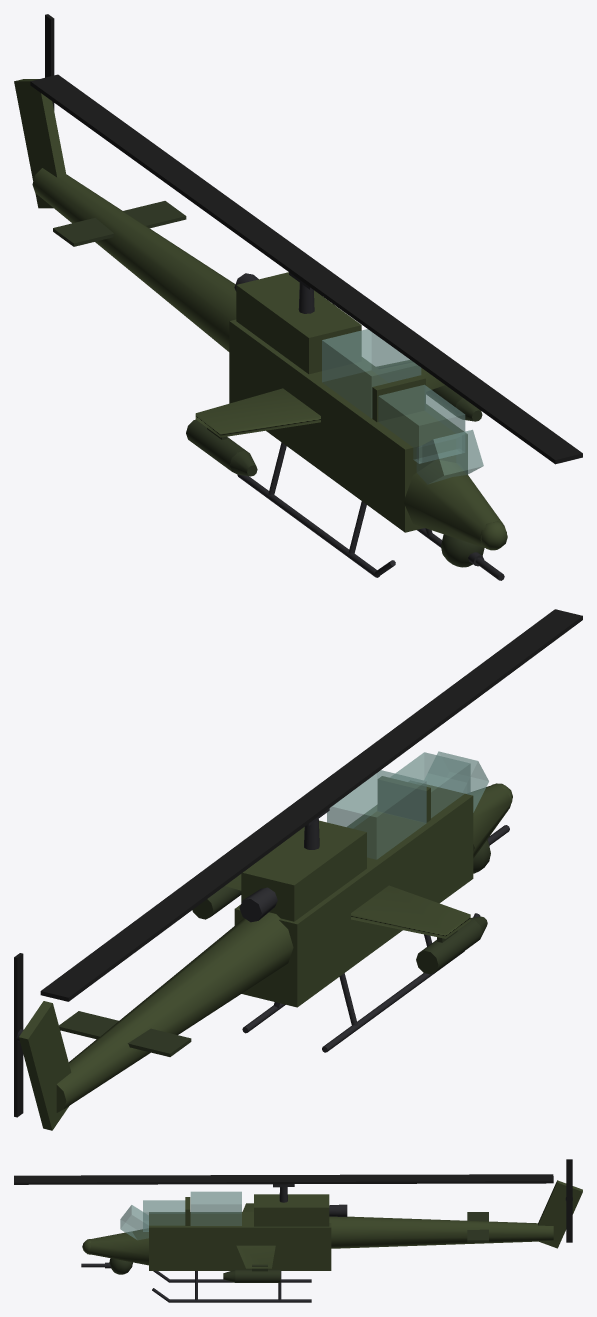
File: ah1-cobra.glb
3 renders of one model, top to bottom at view 1: azimuth 30°, elevation 25°; view 2: azimuth 150°, elevation 25°; view 3: azimuth 270°, elevation 25°, orthographic. The views are drawn at different scales.
Parts seen in each view (by area): view 1: Mesh_Hull, Mesh_MainRotorBlades, Mesh_TailBoom, Mesh_EngineFairing, Mesh_Nose, Mesh_CanopyPilot, Mesh_CanopyGunner, Mesh_StubWingRight, Mesh_TailFin, Mesh_Windshield, Mesh_Stabilizer, Mesh_CanopyFrame (+4 smaller); view 2: Mesh_Hull, Mesh_MainRotorBlades, Mesh_TailBoom, Mesh_EngineFairing, Mesh_CanopyPilot, Mesh_TailFin, Mesh_StubWingRight, Mesh_CanopyGunner, Mesh_Stabilizer, Mesh_Windshield, Mesh_CanopyFrame, Mesh_Nose (+5 smaller); view 3: Mesh_Hull, Mesh_TailBoom, Mesh_MainRotorBlades, Mesh_EngineFairing, Mesh_CanopyPilot, Mesh_Nose, Mesh_TailFin, Mesh_CanopyGunner, Mesh_StubWingLeft, Mesh_Windshield, Mesh_RocketPodL, Mesh_TailRotorBlades (+5 smaller).
Boxes of the visible parts, x1=… form: Mesh_Hull: x1=229, y1=319, x2=467, y2=532; Mesh_MainRotorBlades: x1=30, y1=74, x2=582, y2=464; Mesh_TailBoom: x1=32, y1=168, x2=236, y2=351; Mesh_EngineFairing: x1=236, y1=272, x2=361, y2=374; Mesh_Nose: x1=403, y1=459, x2=506, y2=547; Mesh_CanopyPilot: x1=322, y1=329, x2=421, y2=418; Mesh_CanopyGunner: x1=378, y1=385, x2=465, y2=463; Mesh_StubWingRight: x1=195, y1=388, x2=320, y2=437; Mesh_TailFin: x1=14, y1=79, x2=66, y2=208; Mesh_Windshield: x1=416, y1=429, x2=483, y2=484; Mesh_Stabilizer: x1=53, y1=201, x2=186, y2=246; Mesh_CanopyFrame: x1=372, y1=375, x2=425, y2=421; Mesh_Hull: x1=234, y1=783, x2=473, y2=1007; Mesh_MainRotorBlades: x1=40, y1=609, x2=582, y2=1001; Mesh_TailBoom: x1=56, y1=912, x2=293, y2=1112; Mesh_EngineFairing: x1=241, y1=820, x2=366, y2=921; Mesh_CanopyPilot: x1=327, y1=770, x2=426, y2=859; Mesh_TailFin: x1=19, y1=1001, x2=71, y2=1130; Mesh_StubWingRight: x1=351, y1=885, x2=470, y2=938; Mesh_CanopyGunner: x1=390, y1=752, x2=470, y2=817; Mesh_Stabilizer: x1=59, y1=1011, x2=191, y2=1056; Mesh_Windshield: x1=424, y1=751, x2=488, y2=812; Mesh_CanopyFrame: x1=378, y1=776, x2=430, y2=822; Mesh_Nose: x1=470, y1=784, x2=512, y2=858; Mesh_Hull: x1=149, y1=1212, x2=331, y2=1270; Mesh_TailBoom: x1=329, y1=1216, x2=553, y2=1248; Mesh_MainRotorBlades: x1=14, y1=1174, x2=553, y2=1184; Mesh_EngineFairing: x1=254, y1=1194, x2=329, y2=1226; Mesh_CanopyPilot: x1=190, y1=1191, x2=241, y2=1225; Mesh_Nose: x1=89, y1=1229, x2=148, y2=1265; Mesh_TailFin: x1=538, y1=1180, x2=582, y2=1248; Mesh_CanopyGunner: x1=143, y1=1200, x2=185, y2=1231; Mesh_StubWingLeft: x1=236, y1=1245, x2=275, y2=1268; Mesh_Windshield: x1=120, y1=1205, x2=148, y2=1239; Mesh_RocketPodL: x1=235, y1=1269, x2=280, y2=1282; Mesh_TailRotorBlades: x1=566, y1=1159, x2=572, y2=1242.
Bounding box in the file's own units: 3.74 × 3.82 × 14.34.
